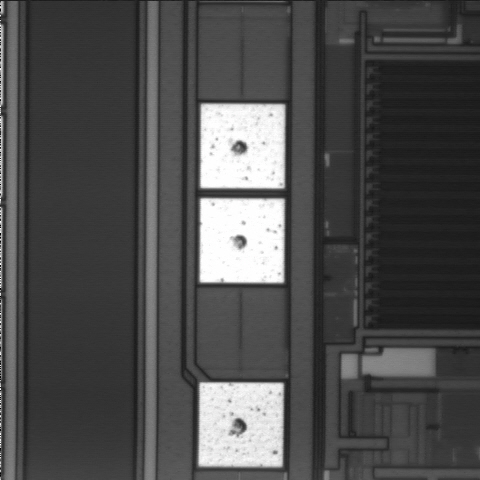pad: (200, 104, 285, 189), (200, 198, 284, 283), (199, 383, 283, 467)
